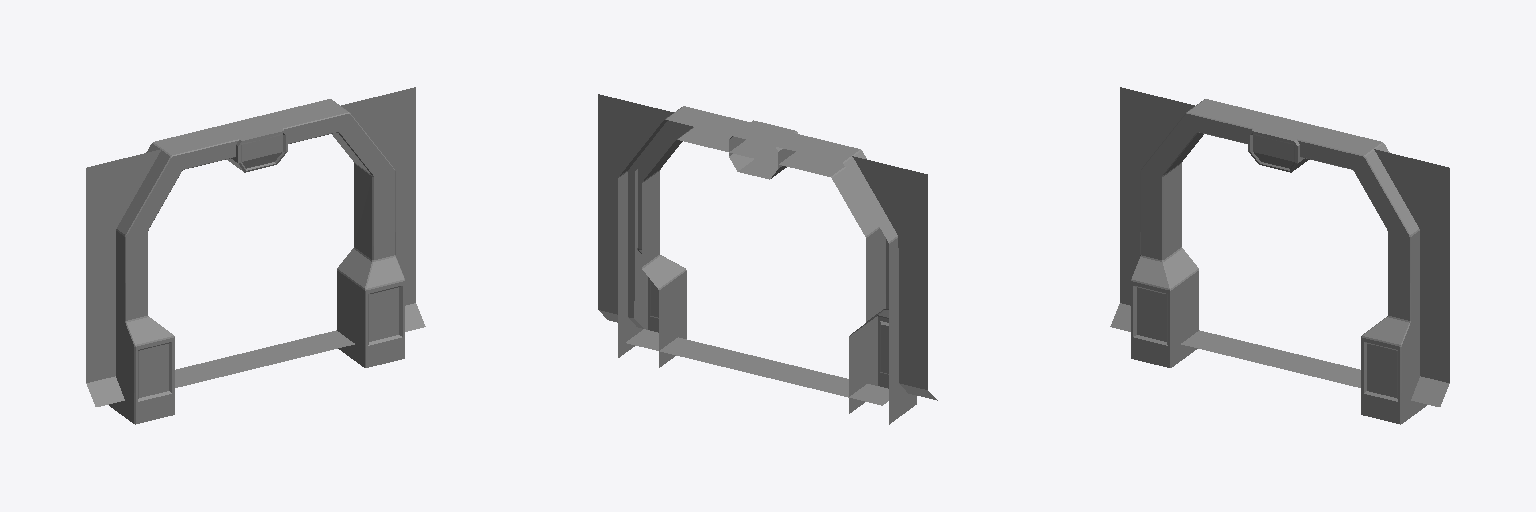
File: ElevatorDoorWay.obj
The picture shows the model from 3 angles: view 1: azimuth 30°, elevation 25°; view 2: azimuth 150°, elevation 25°; view 3: azimuth 330°, elevation 25°; orthographic projection.
Parts seen in each view (by area): view 1: SM_DoorWay_Elevator_Half_E; view 2: SM_DoorWay_Elevator_Half_E; view 3: SM_DoorWay_Elevator_Half_E.
Part boxes in pixels (x1,y1,x2,y2): SM_DoorWay_Elevator_Half_E: (86,87,425,424); SM_DoorWay_Elevator_Half_E: (598,94,937,424); SM_DoorWay_Elevator_Half_E: (1110,87,1449,424).
Bounding box in the file's own units: 157 × 114 × 23.62.